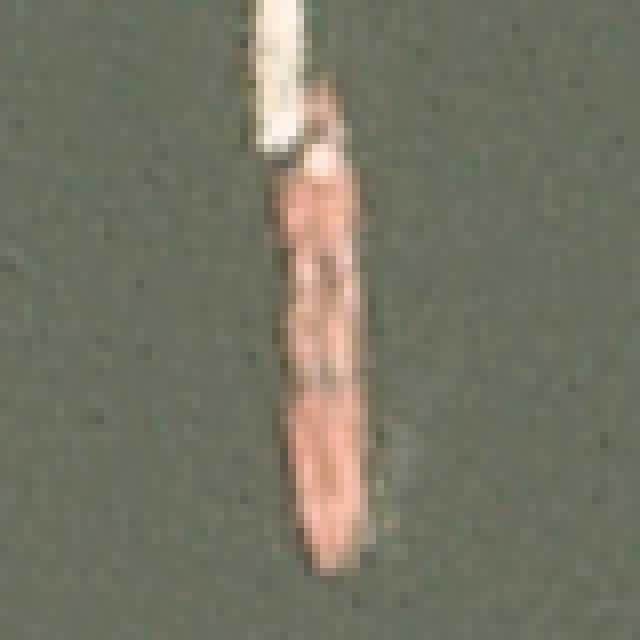ship: (228, 34, 437, 594)
